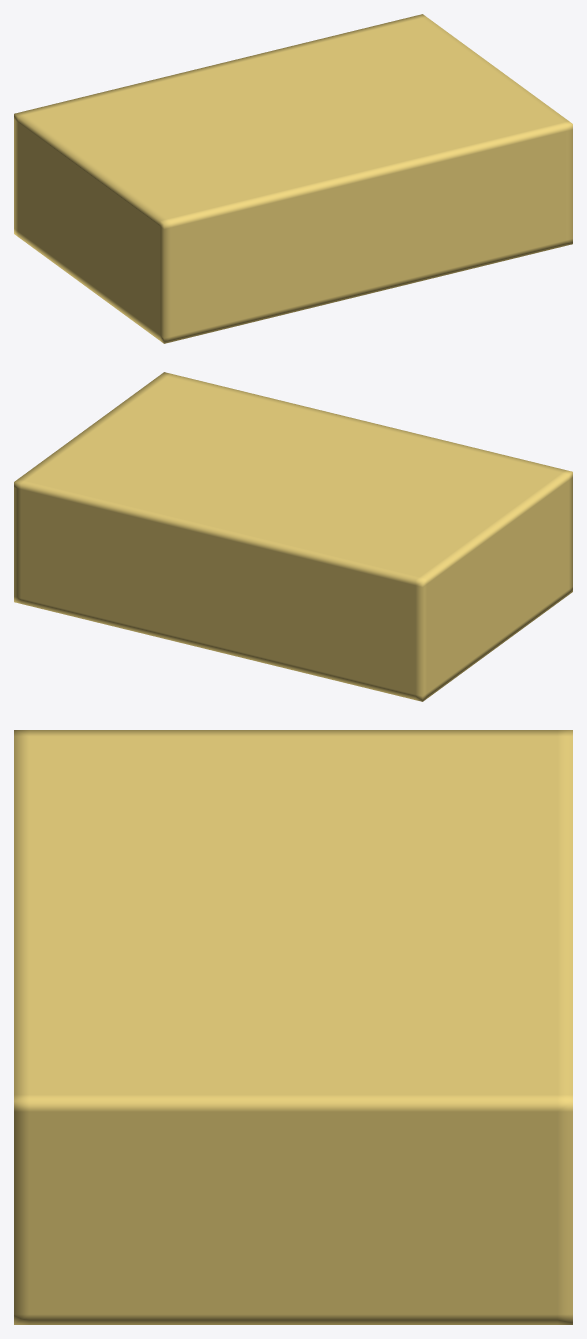
File: Product_Cheese.fbx
3 renders of one model, top to bottom at view 1: azimuth 30°, elevation 25°; view 2: azimuth 150°, elevation 25°; view 3: azimuth 270°, elevation 25°, orthographic. The views are drawn at different scales.
Parts seen in each view (by area): view 1: Product_Cheese; view 2: Product_Cheese; view 3: Product_Cheese.
Part boxes in pixels (x1,y1,x2,y2): Product_Cheese: (14, 14, 572, 343); Product_Cheese: (14, 372, 572, 701); Product_Cheese: (14, 730, 572, 1324).
Size of the model in its own units: 0.094 by 0.0264 by 0.0598.
